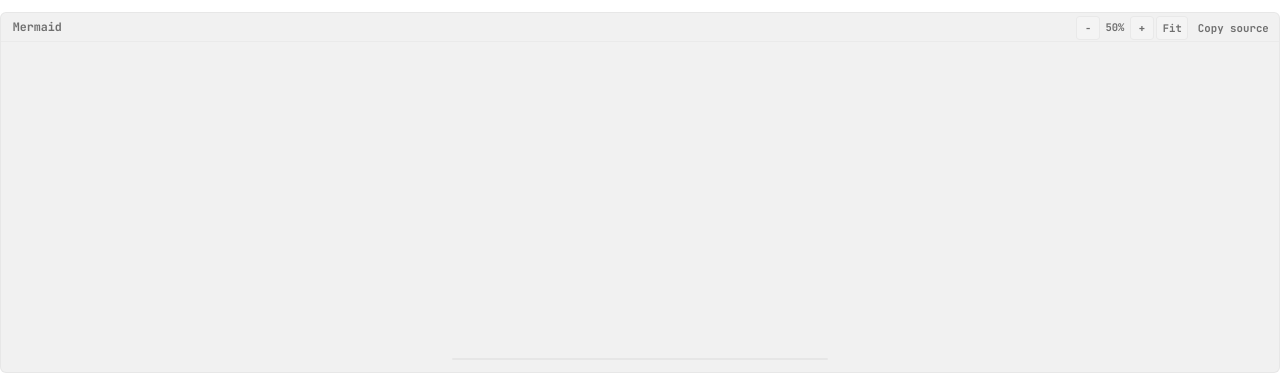
it: MarkdownMermaidDiagram › updates Mermaid viewport scale from zoom controls
The image size is (1280, 390).
expect the button named "Zoom out" is shown: met, box [1076,16,1100,40]
expect the button with aria-label "Fit diagram" is shown: met, box [1156,16,1188,40]
Click the button named "Zoom in" at point(1142, 28), box [1130,16,1154,40]
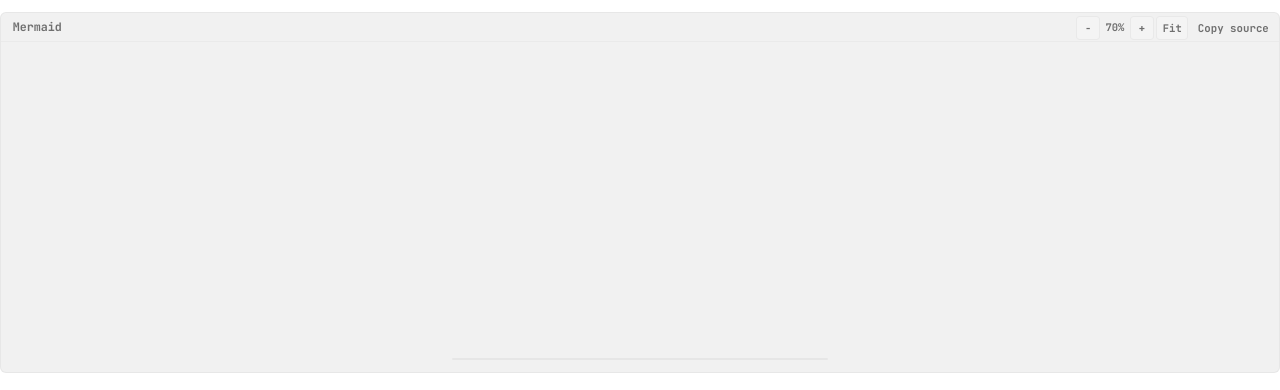
expect the text "70%" is shown: met, box [1106,20,1124,34]
Click the button named "Zoom out" at point(1088, 28), box [1076,16,1100,40]
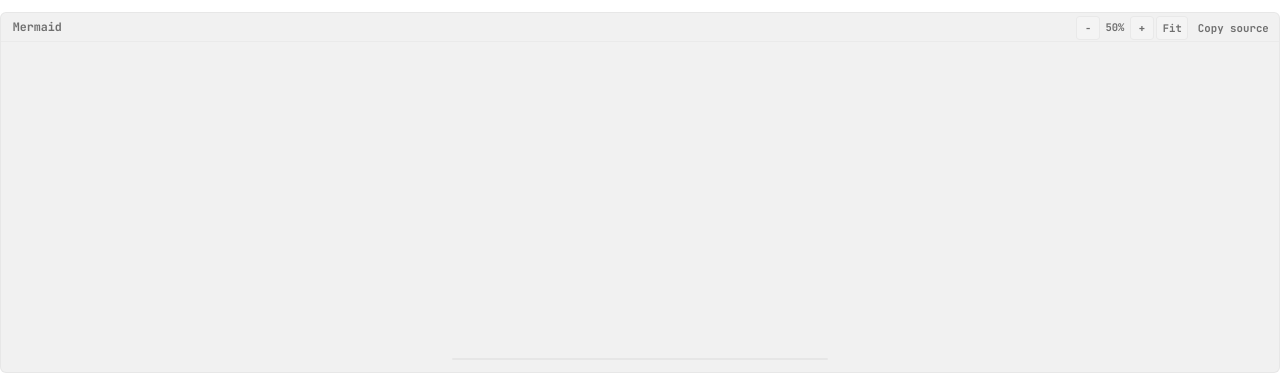
expect the text "50%" is shown: met, box [1106,20,1124,34]
Click the button named "Zoom in" at point(1142, 28), box [1130,16,1154,40]
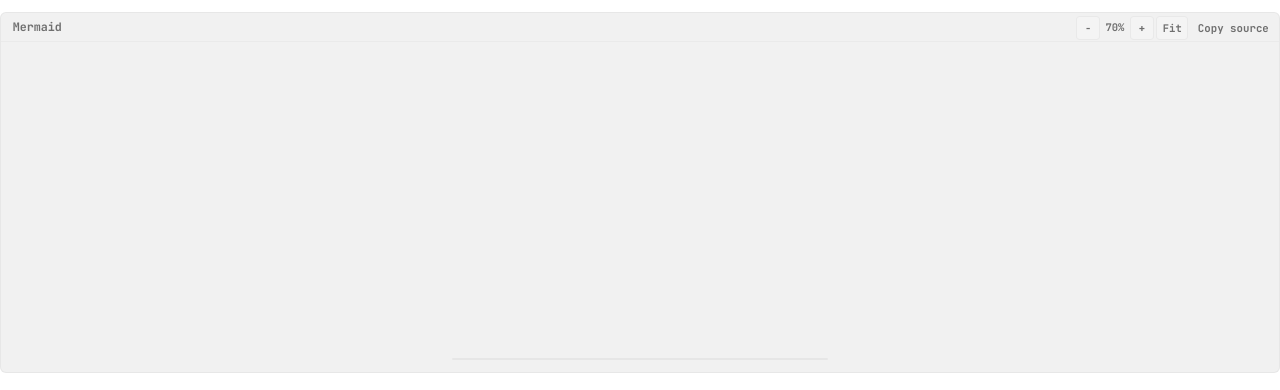
Click the button with aria-label "Fit diagram" at point(1172, 28), box [1156,16,1188,40]
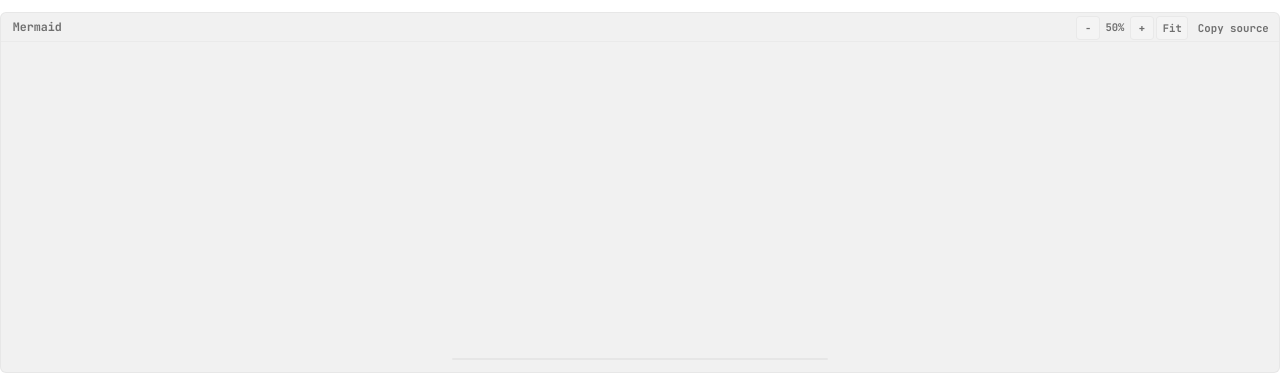
expect the text "50%" is shown: met, box [1106,20,1124,34]
